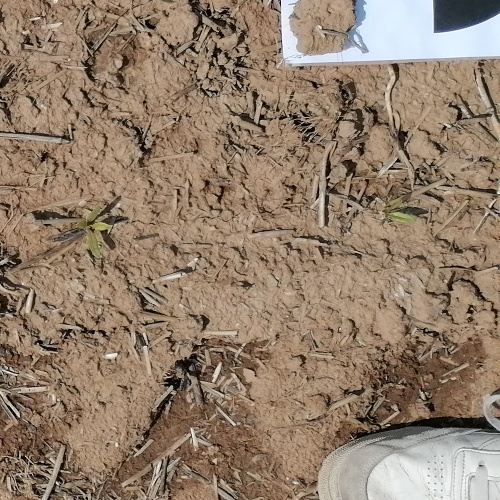beet: (83, 209, 110, 258), (383, 207, 417, 226)
